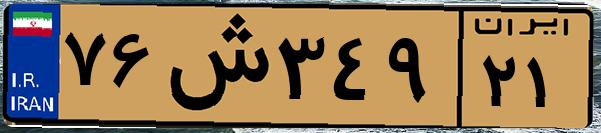1: (525, 38, 570, 115)
2: (475, 38, 525, 113)
3: (270, 28, 330, 110)
4: (330, 28, 385, 110)
6: (110, 28, 158, 98)
7: (57, 26, 110, 100)
9: (385, 28, 445, 110)
ش: (158, 12, 270, 120)
